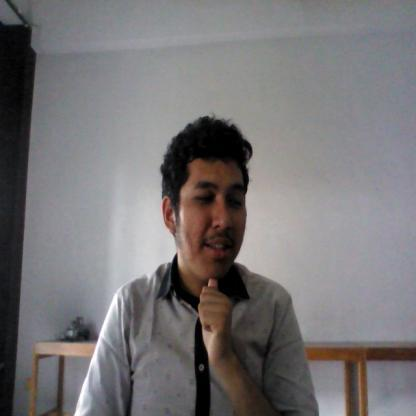Siapa: (192, 272, 236, 365)
